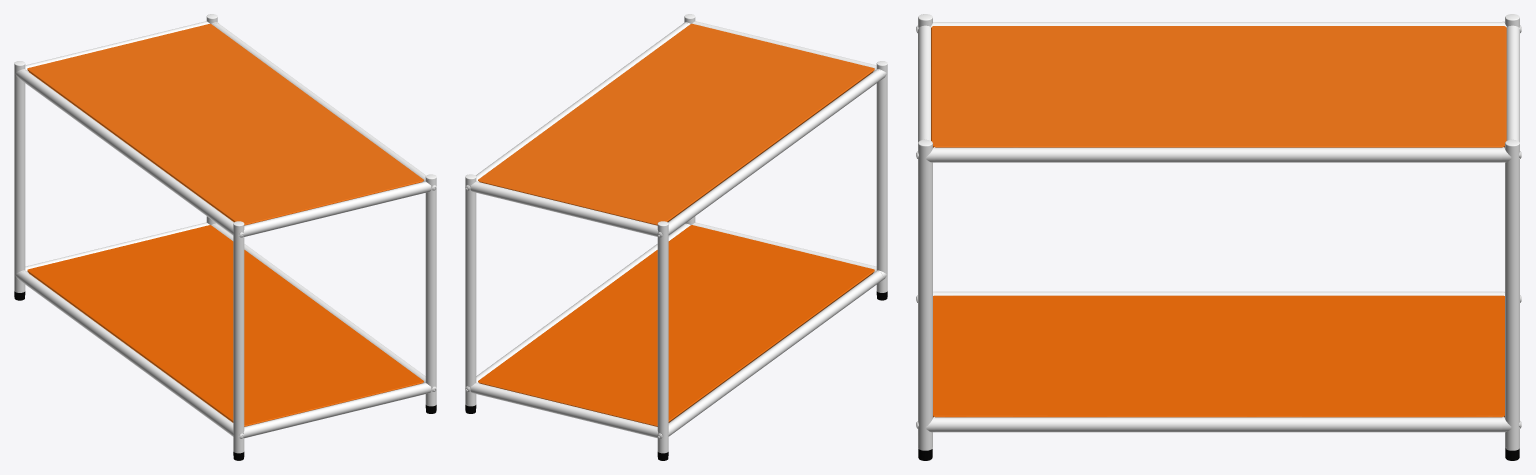
The model's file is 80x40x40-1-1-Orange_optimized.glb.
3 views of the same model, side by side, from view 1: azimuth 30°, elevation 25°; view 2: azimuth 150°, elevation 25°; view 3: azimuth 270°, elevation 25° (orthographic). The views are drawn at different scales.
Visible parts, largest first — view 1: 直角鐵板-80x40-3 - 零件, 鐵管-1層-40-正常腳-32mm-4 - 零件; view 2: 直角鐵板-80x40-3 - 零件, 鐵管-1層-40-正常腳-32mm-4 - 零件; view 3: 直角鐵板-80x40-3 - 零件, 鐵管-1層-40-正常腳-32mm-4 - 零件.
Part boxes in pixels (<box>): 直角鐵板-80x40-3 - 零件: <box>27,23,423,426</box>; 鐵管-1層-40-正常腳-32mm-4 - 零件: <box>14,14,436,460</box>; 直角鐵板-80x40-3 - 零件: <box>478,23,874,426</box>; 鐵管-1層-40-正常腳-32mm-4 - 零件: <box>465,14,887,453</box>; 直角鐵板-80x40-3 - 零件: <box>931,26,1506,417</box>; 鐵管-1層-40-正常腳-32mm-4 - 零件: <box>916,14,1521,450</box>.
Size of the model in its own units: 0.3992 by 0.4453 by 0.7732.
